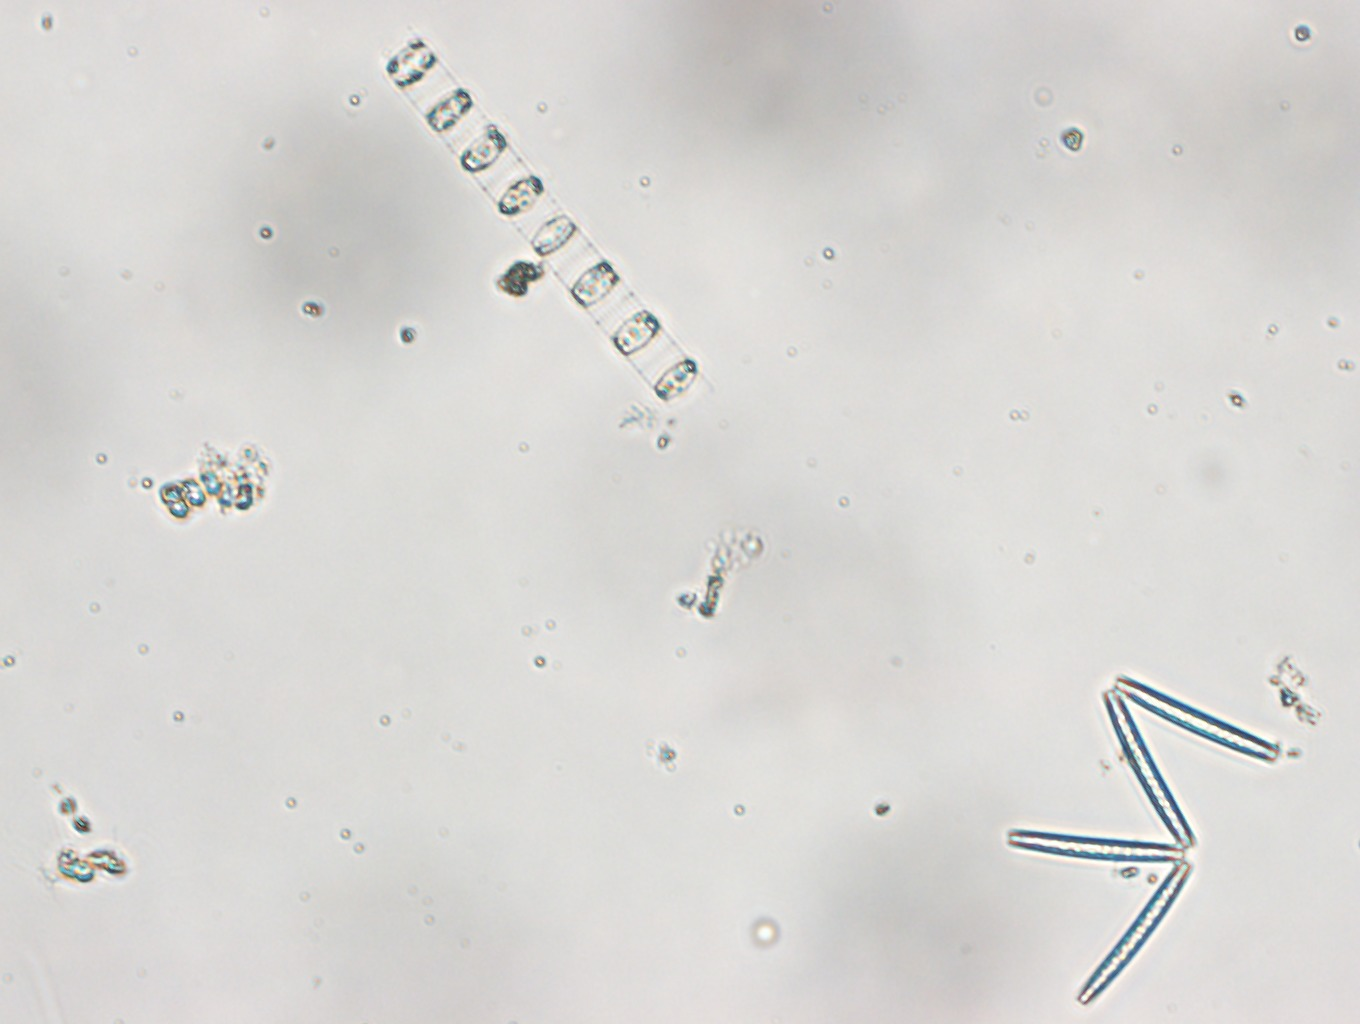skeletonema: (374, 25, 711, 408)
thalassionema nitzschioides: (1004, 669, 1282, 1005)
